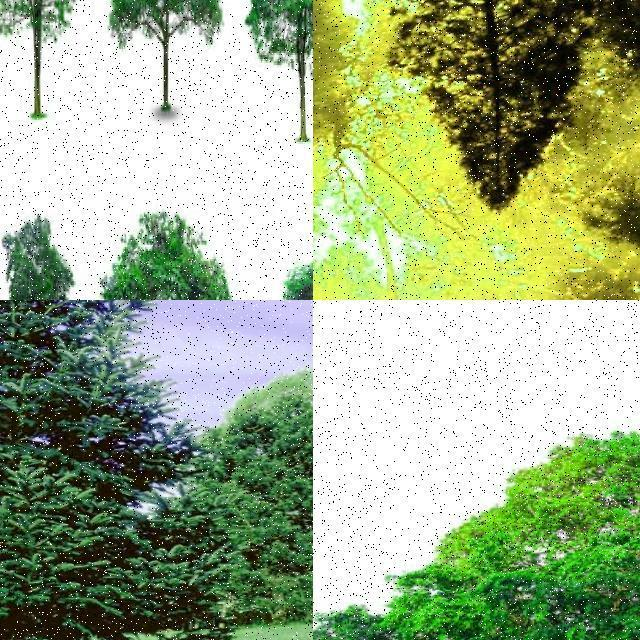tree: (312, 416, 640, 640), (1, 300, 188, 640), (388, 0, 588, 204), (203, 360, 313, 640), (0, 300, 68, 628), (92, 200, 245, 300), (382, 0, 566, 82), (106, 0, 224, 116), (245, 0, 313, 140), (0, 0, 78, 116), (0, 188, 72, 300), (568, 0, 640, 96), (2, 212, 76, 300), (0, 0, 44, 124), (591, 167, 640, 260), (0, 196, 40, 300), (0, 0, 28, 124)
